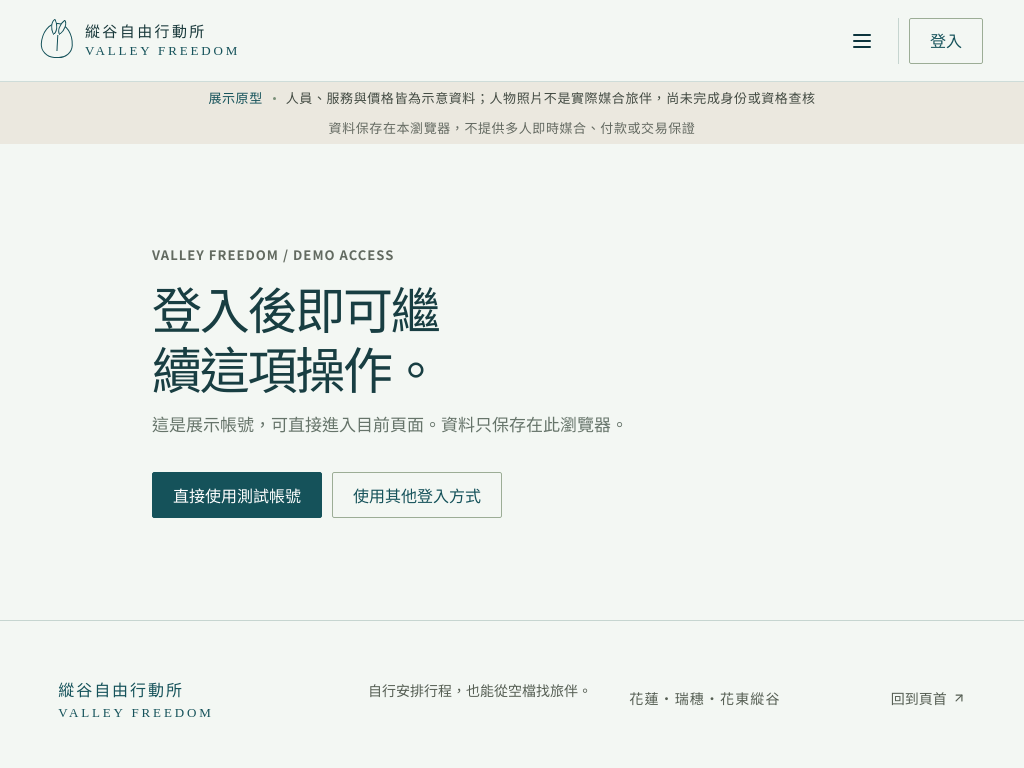
Scenario: VALLEY FREEDOM application shell › guides a guest to login when opening a personal workspace
Expected: the heading "登入後即可繼續這項操作。" is shown, [152,271,438,403]
What coordinates should you click on to do the following:
click the button "直接使用測試帳號"
I would click on:
 (237, 495)
Its box is [152,472,322,518].
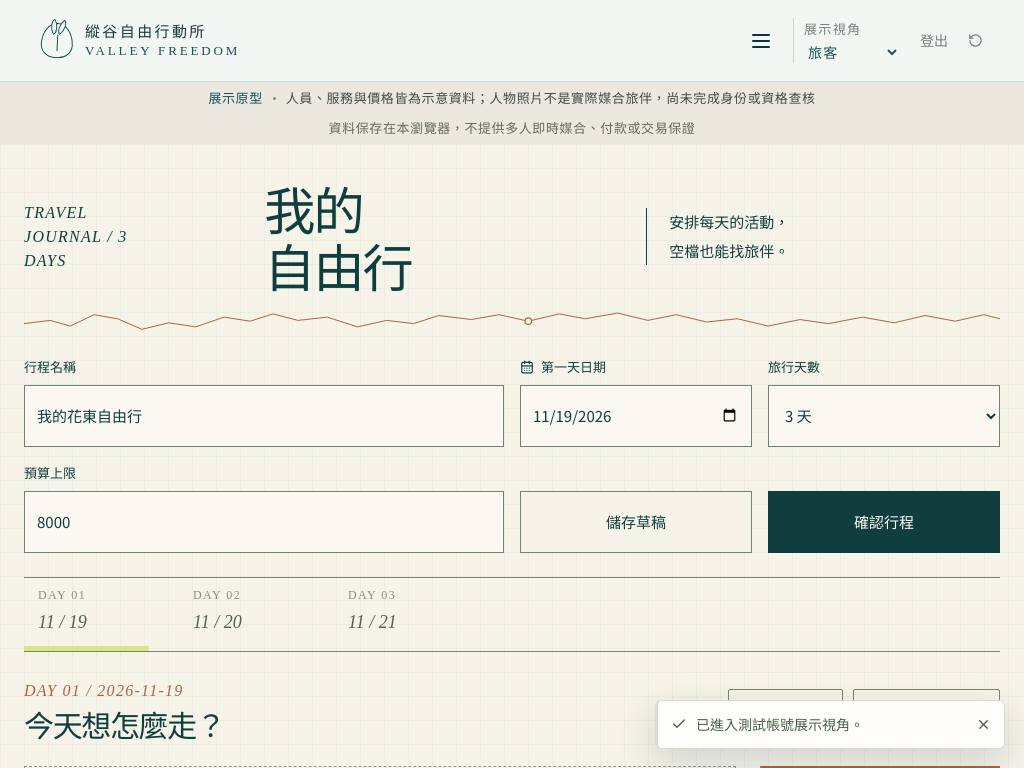
Expected: the heading "我的自由行" is shown, [264,171,412,302]
